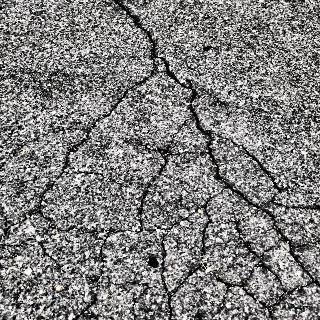alligator-crack: (166, 141, 320, 319)
crack: (68, 120, 183, 320), (32, 68, 150, 237), (109, 0, 214, 138)
